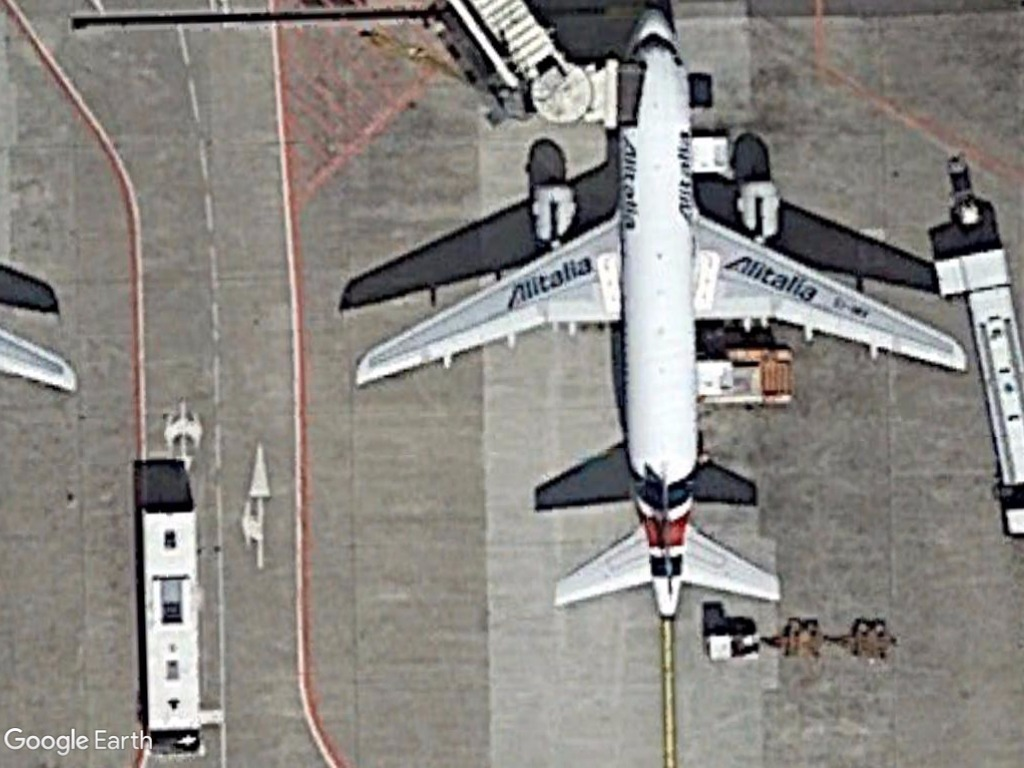airliner: (339, 0, 975, 625)
bus: (135, 500, 208, 733)
